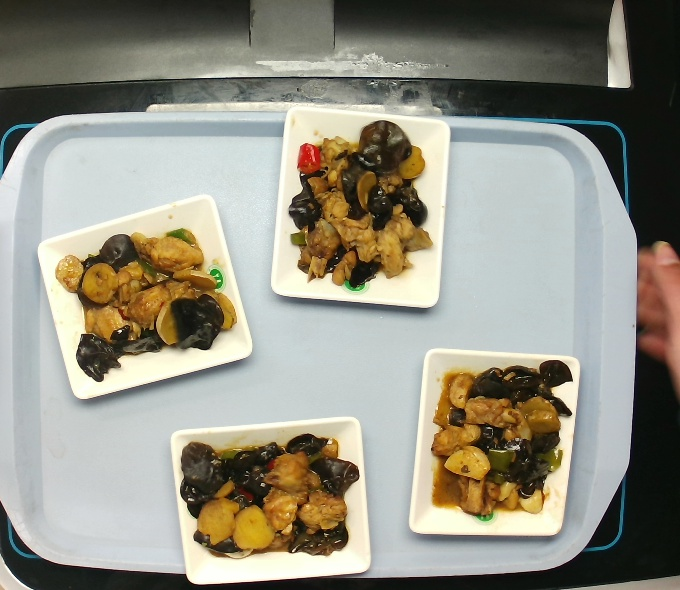wcq-MuErJiKuai: (279, 111, 438, 298), (63, 221, 226, 379), (424, 359, 568, 521), (186, 431, 351, 564)
